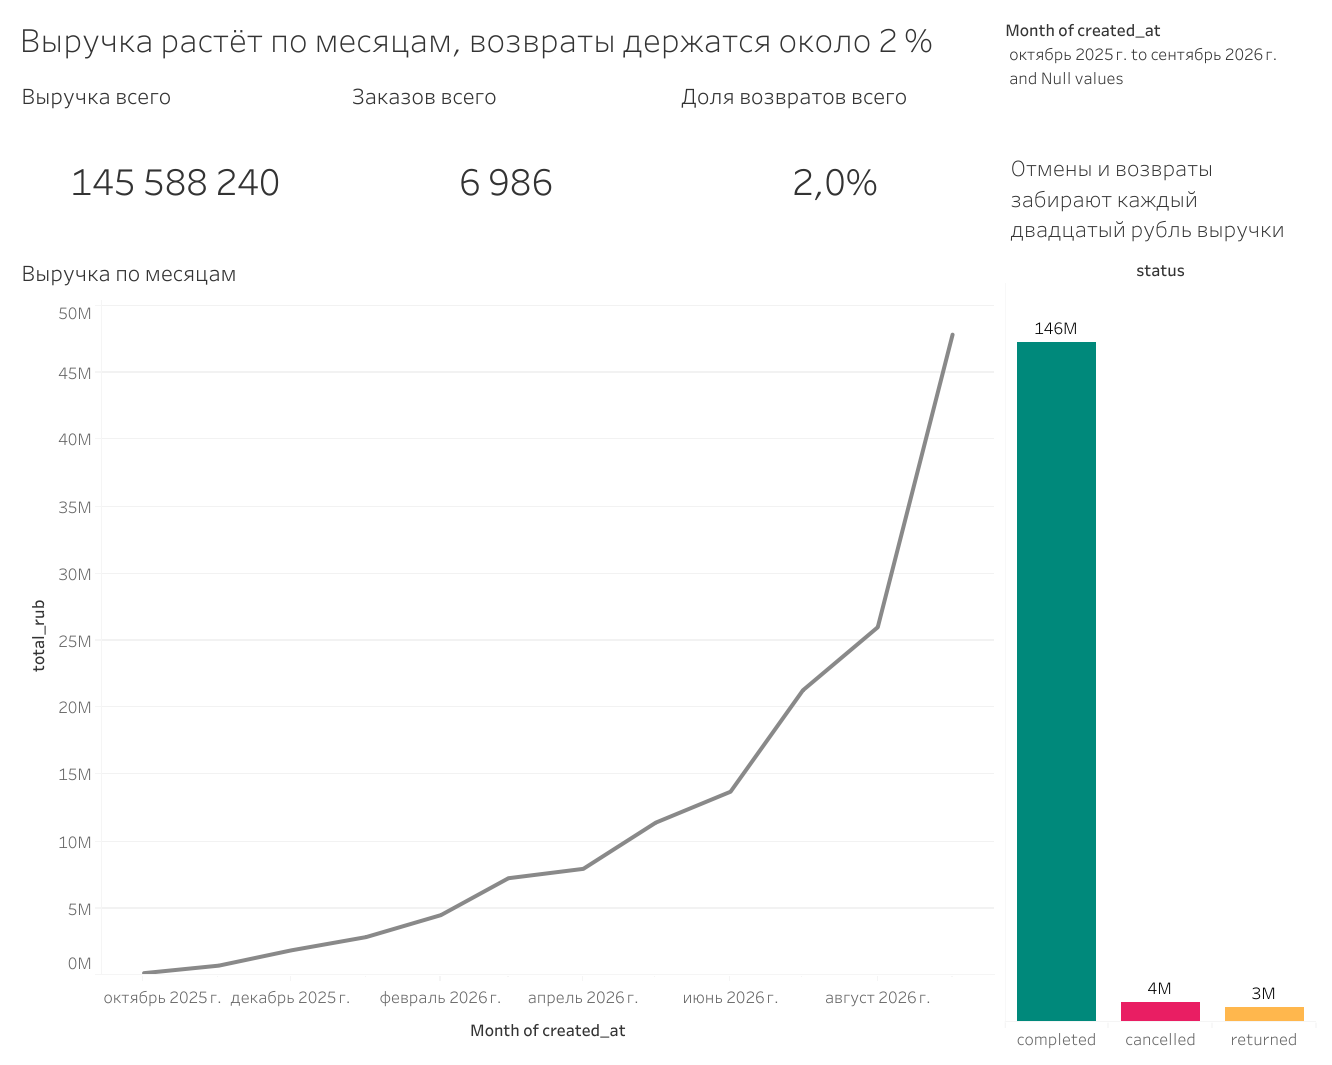

The page's visual inventory and layout, read from the dashboard file:
{"tool":"tableau","page":{"name":"Итоги магазина","canvas":[1000,800],"ordinal":0},"visuals":[{"type":"title","box":[8,8,742,42]},{"type":"filter","title":"Выручка по месяцам","param":"[federated.0yqq4qd11tiruc1dxrr4y1sc9ef5].[tmn:created_at:qk]","box":[750,8,242,70]},{"type":"worksheet","title":"Выручка всего","mark":"Automatic","box":[8,50,248,133]},{"type":"worksheet","title":"Заказов всего","mark":"Automatic","box":[256,50,247,133]},{"type":"worksheet","title":"Доля возвратов всего","mark":"Automatic","box":[503,50,247,133]},{"type":"worksheet","title":"Выручка по статусам","mark":"Automatic","rows":["total_rub"],"cols":["status"],"box":[750,104,242,688]},{"type":"worksheet","title":"Выручка по месяцам","mark":"Automatic","rows":["total_rub"],"cols":["created_at"],"box":[8,183,742,609]}]}

Visuals, with their boxes in screenshot pixels (x1, y1, x2, y2), scaled from the page's 1000x800 canvas onto the 1332x1065 screenshot:
title: bbox=[11, 11, 999, 67]
"Выручка по месяцам" filter: bbox=[999, 11, 1321, 104]
"Выручка всего" worksheet: bbox=[11, 67, 341, 244]
"Заказов всего" worksheet: bbox=[341, 67, 670, 244]
"Доля возвратов всего" worksheet: bbox=[670, 67, 999, 244]
"Выручка по статусам" worksheet: bbox=[999, 138, 1321, 1054]
"Выручка по месяцам" worksheet: bbox=[11, 244, 999, 1054]
